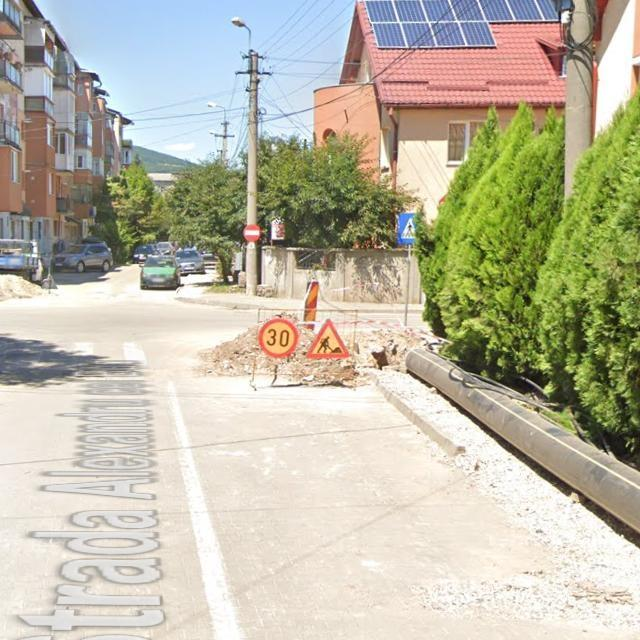forb_speed_over_30: (259, 317, 299, 358)
info_crosswalk: (397, 212, 417, 244)
